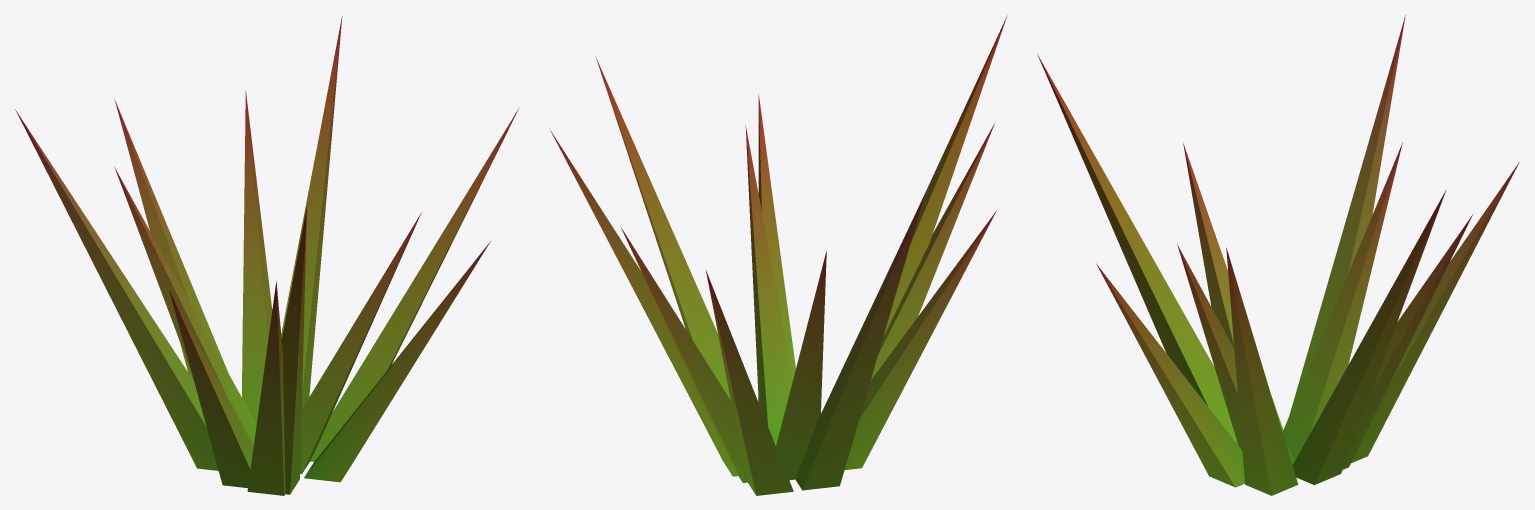
File: Desert_GrassTuft_01.fbx
3 views of the same model, side by side, from view 1: azimuth 30°, elevation 25°; view 2: azimuth 150°, elevation 25°; view 3: azimuth 270°, elevation 25° (orthographic). The views are drawn at different scales.
Visible parts, largest first — view 1: Desert_GrassTuft_01; view 2: Desert_GrassTuft_01; view 3: Desert_GrassTuft_01.
Part boxes in pixels (bbox=[...]): Desert_GrassTuft_01: bbox=[15, 16, 518, 495]; Desert_GrassTuft_01: bbox=[550, 15, 1007, 495]; Desert_GrassTuft_01: bbox=[1037, 15, 1519, 495].
Size of the model in its own units: 0.5333 by 0.4539 by 0.5446.
